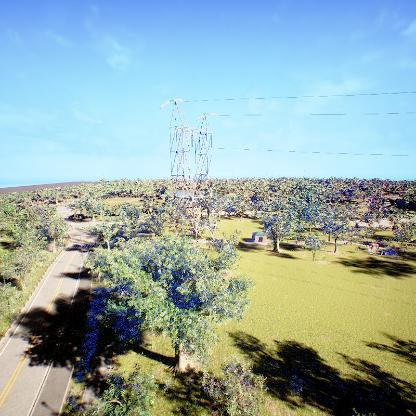tower: (157, 94, 227, 265)
